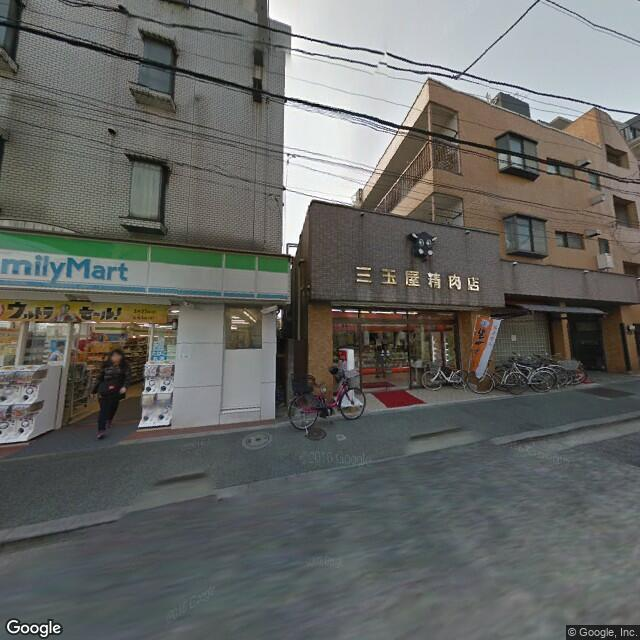family_mart: (1, 227, 295, 309)
